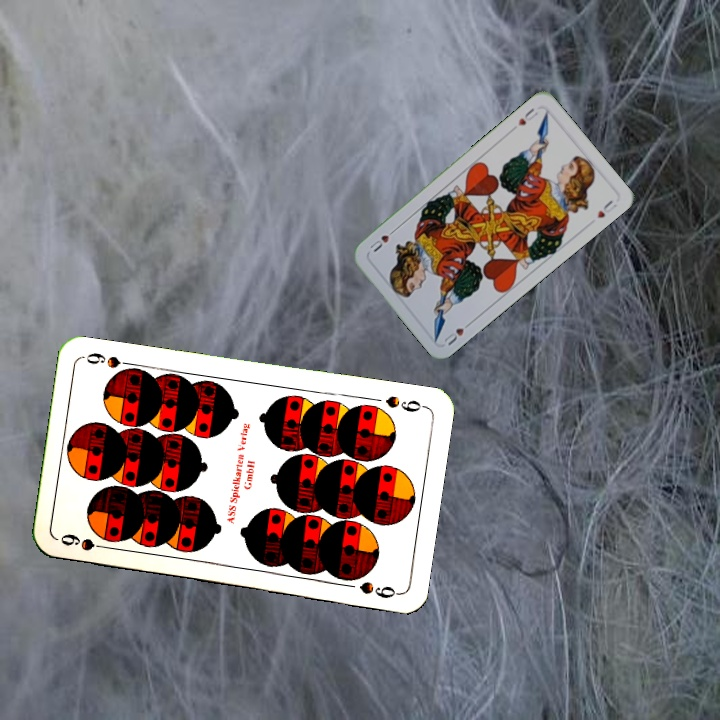HU: (440, 317, 475, 348), (514, 104, 541, 128)
S9: (56, 529, 115, 553), (381, 392, 428, 415)
